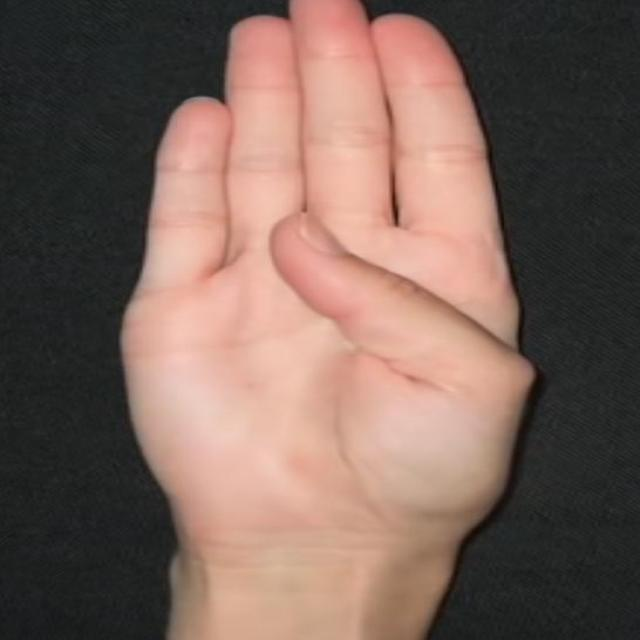B: (105, 0, 552, 567)
